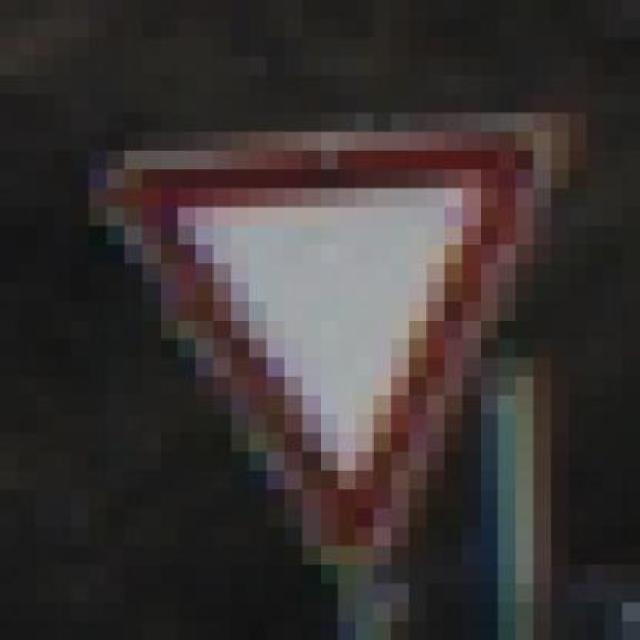Give Way: (70, 76, 604, 622)
